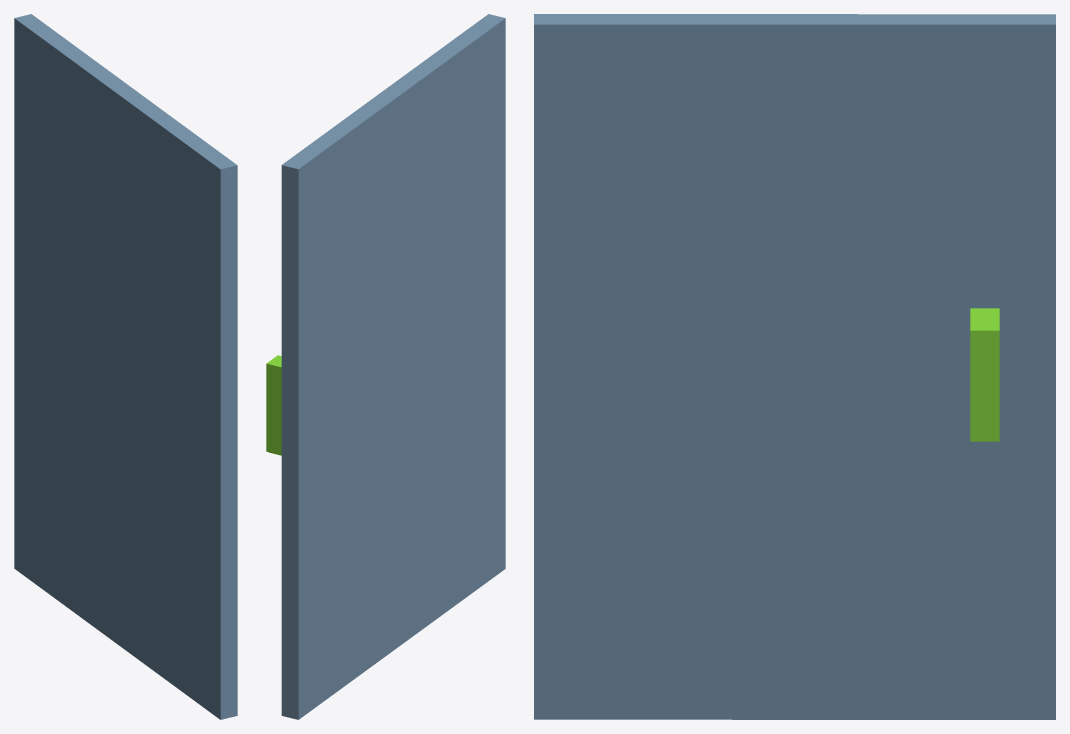
The model's file is _penBox.fbx.
3 views of the same model, side by side, from view 1: azimuth 30°, elevation 25°; view 2: azimuth 150°, elevation 25°; view 3: azimuth 270°, elevation 25° (orthographic). The views are drawn at different scales.
Parts seen in each view (by area): view 1: Cube.012; view 2: Cube.012; view 3: Cube.012.
Part boxes in pixels (left/top/right/bottom): Cube.012: left=14, top=14, right=237, bottom=719; Cube.012: left=266, top=14, right=505, bottom=719; Cube.012: left=534, top=14, right=1055, bottom=719.
Size of the model in its own units: 10.98 by 105 by 71.51.
